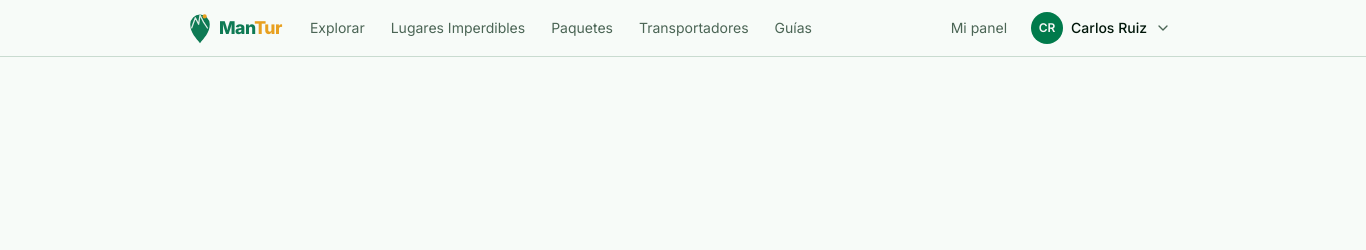
Test: PublicNav — transporter › shows the transporter panel link inline and Cerrar sesión inside the avatar menu
Click the button "CR Carlos Ruiz" at (1101, 28), box x1=1023 y1=6 x2=1179 y2=50
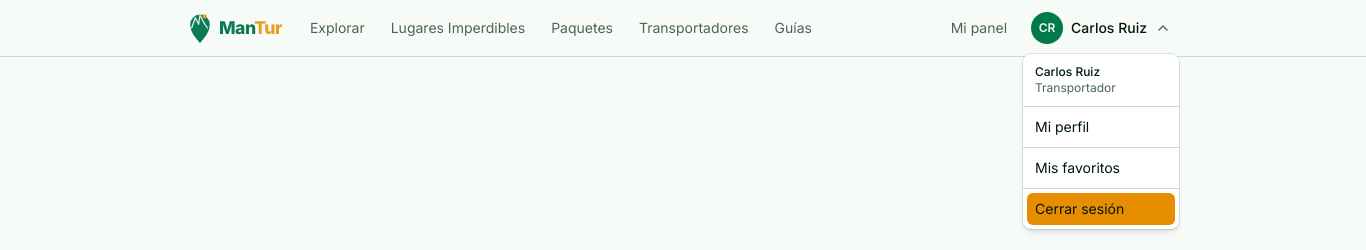
Check: the button "Cerrar sesión" is shown, box x1=1035 y1=199 x2=1167 y2=219
Check: the text "Transportador" is shown, box x1=1035 y1=80 x2=1116 y2=95
